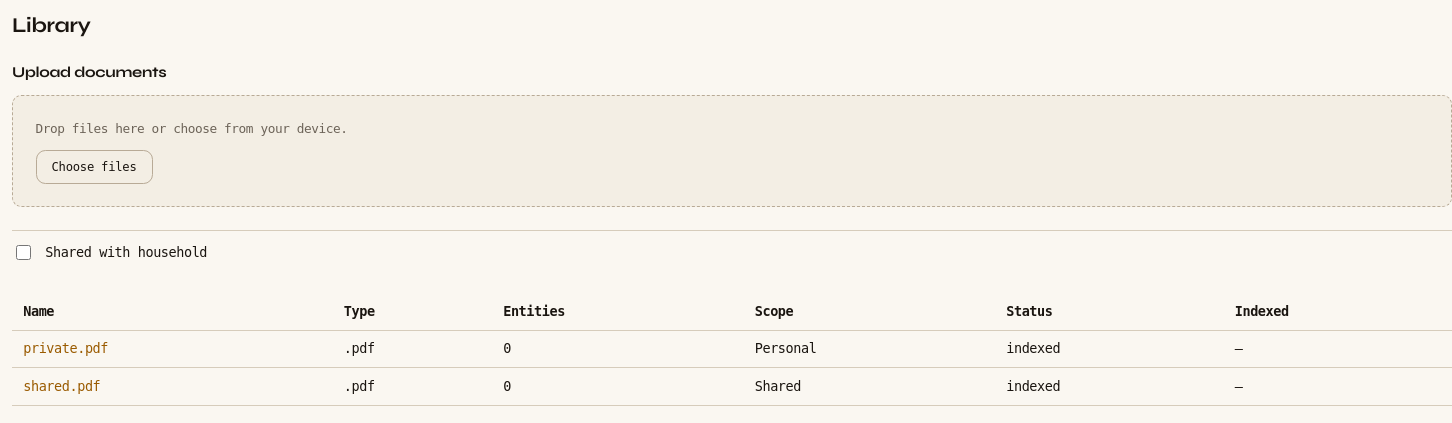
it: DocumentsPage › filters to shared documents when the household filter is checked (LUM-157)
The image size is (1452, 423).
Expected: the link "private.pdf" is shown, [23,340,108,356]
Expected: the link "shared.pdf" is shown, [23,378,100,394]
Step 1. Click the checkbox with test id "documents-shared-filter" → (24, 253), box [16,245,31,260]
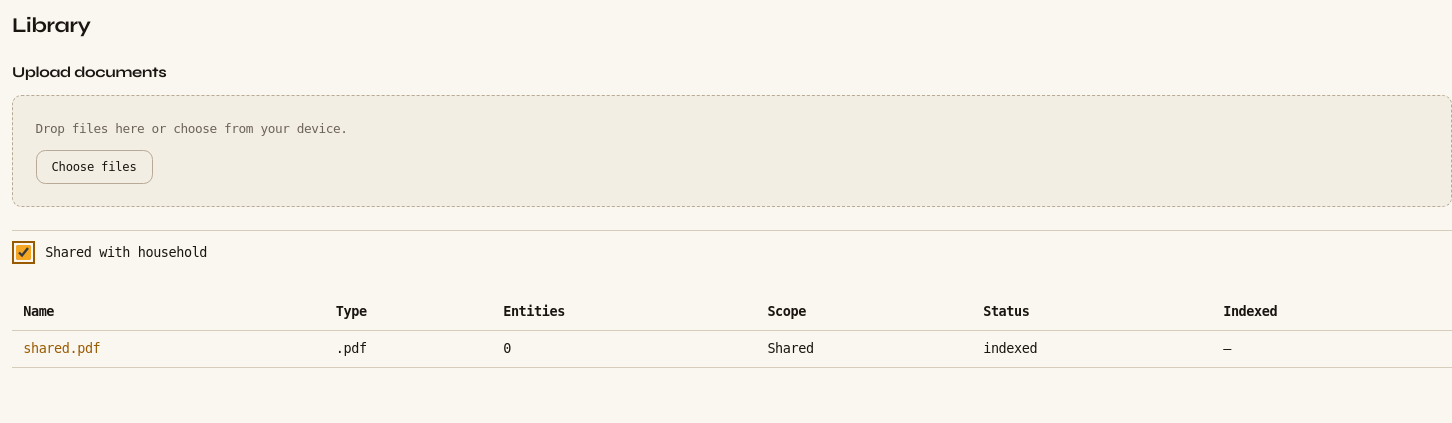
Expected: the link "shared.pdf" is shown, [23,340,100,356]
Result: the link "private.pdf" is gone
